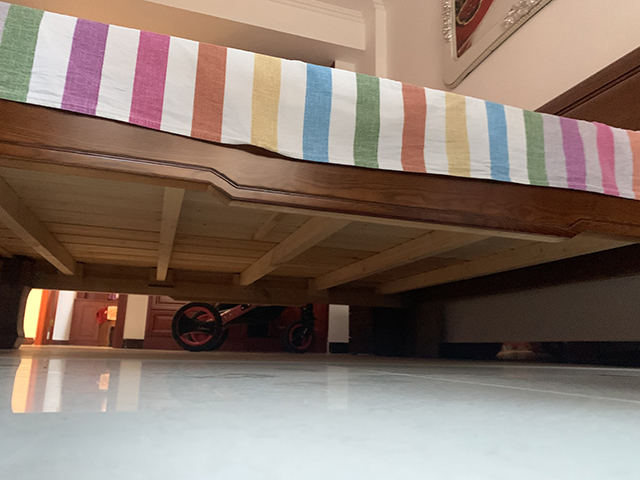bed: (1, 1, 640, 361)
